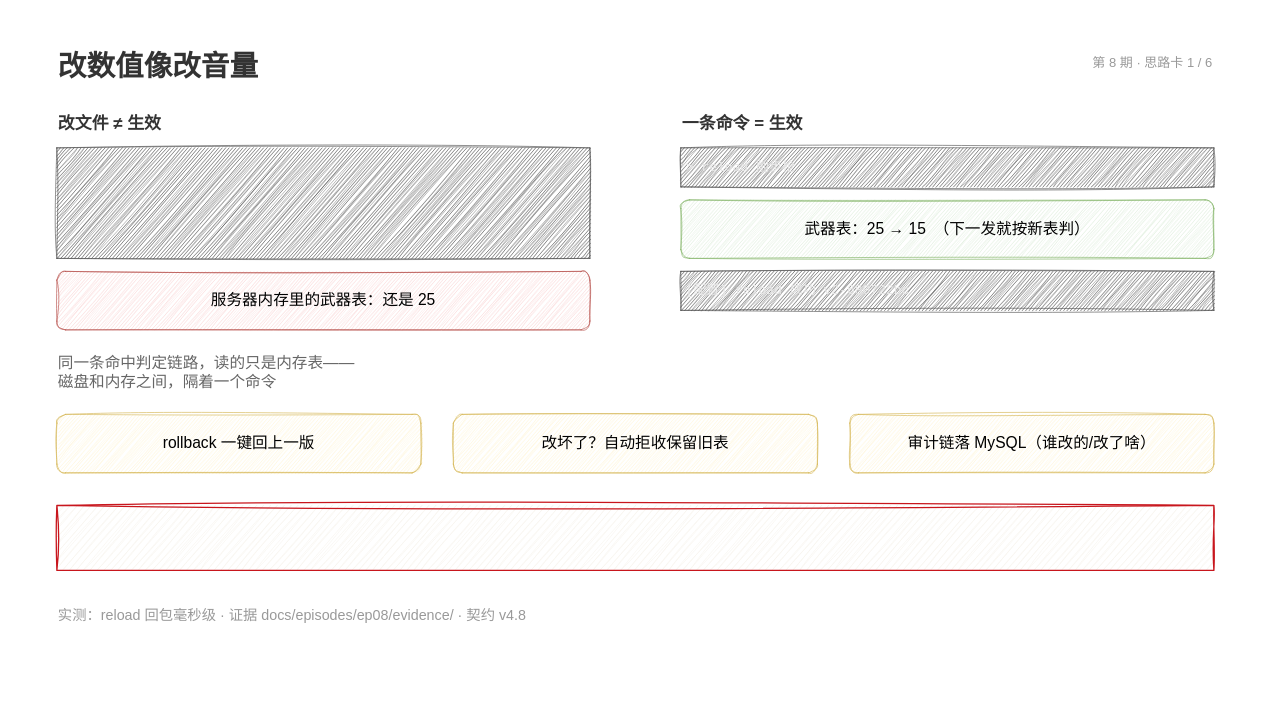
Some shapes in this 1270 by 724 pixel diagram are drawn without their labels. Each missing label, with the centre of its shape:
"game_config.lua rifle = { damage = 25, ... } → 改成 damage = 15 （磁盘已变，内存没变）" belongs at (x=323, y=202).
"改数值像改音量——不用停服，下一发生效" belongs at (x=635, y=537).
